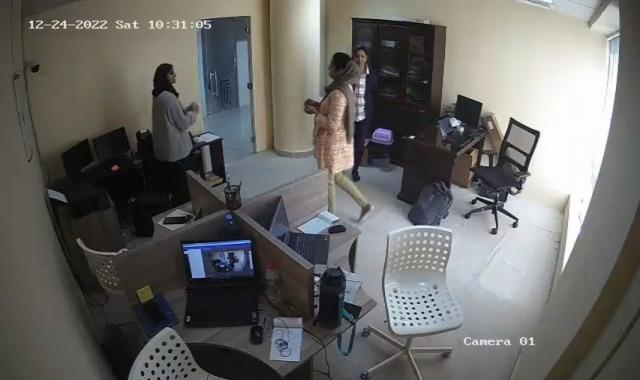no_hairnet: (324, 50, 356, 89), (153, 61, 179, 86), (351, 44, 372, 70)
